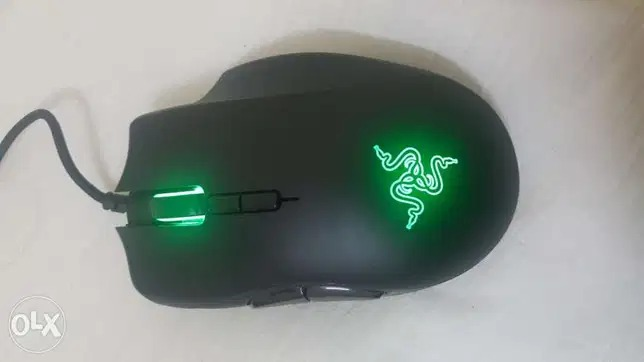mouse: (105, 49, 525, 312)
